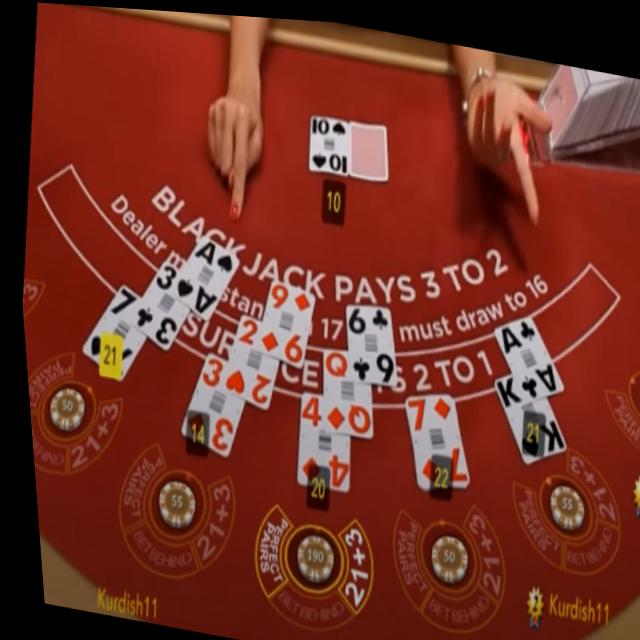Card-10: (306, 108, 346, 171)
Card-2: (217, 310, 274, 408)
Card-3: (175, 348, 239, 455), (124, 257, 185, 349)
Card-4: (290, 389, 343, 488)
Card-6: (341, 302, 390, 380)
Card-7: (77, 280, 141, 383), (399, 388, 461, 485)
Card-9: (253, 275, 311, 363)
Card-A: (165, 230, 235, 318), (488, 308, 558, 396)
Card-K: (488, 367, 560, 458)
Card-Q: (318, 346, 365, 432)
